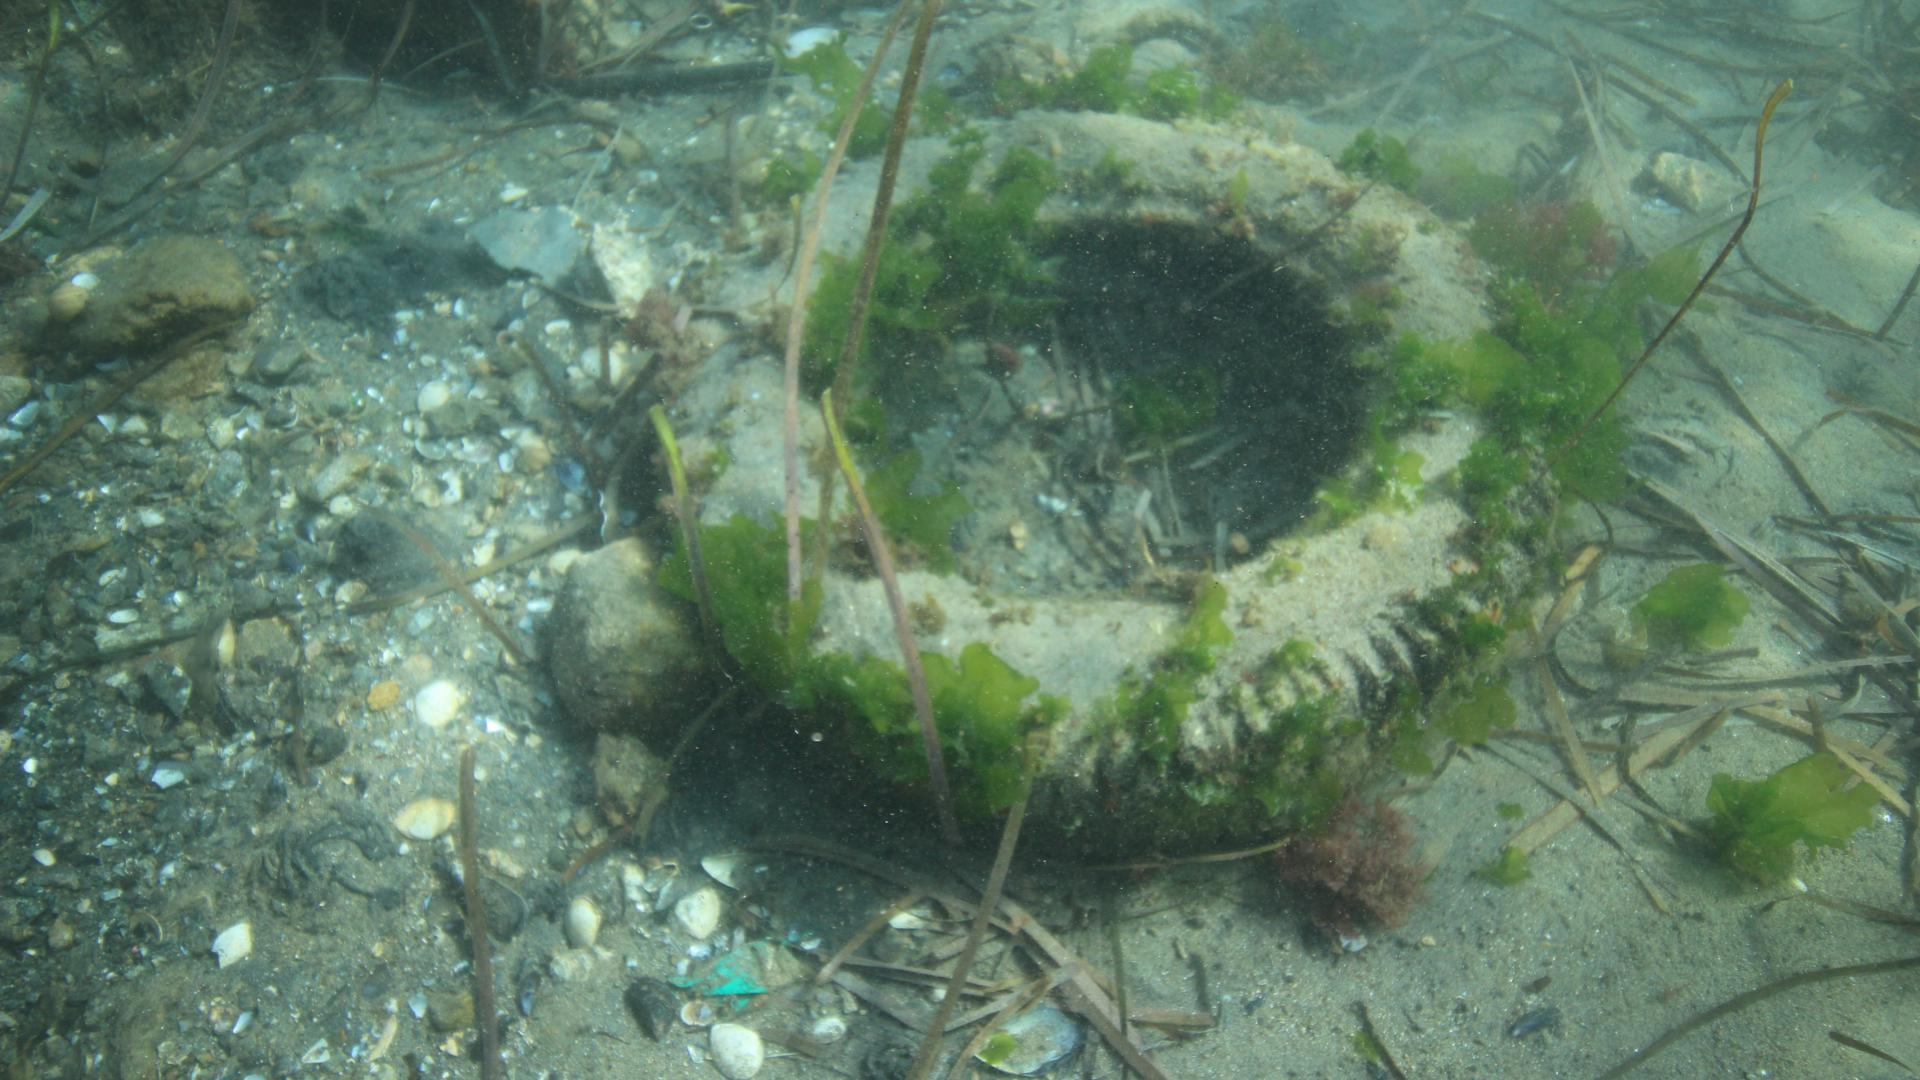tire: (655, 109, 1561, 861)
